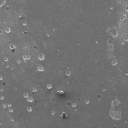corrosion: (108, 26, 120, 39), (37, 52, 46, 61), (110, 58, 119, 67), (37, 65, 45, 73), (4, 26, 12, 34), (56, 89, 65, 96), (26, 105, 33, 113), (8, 107, 15, 115), (9, 43, 16, 51), (60, 112, 68, 119), (22, 54, 31, 60), (46, 83, 53, 90), (120, 14, 125, 23), (22, 93, 29, 99), (71, 102, 77, 109), (65, 71, 72, 77), (50, 110, 56, 116), (85, 98, 90, 105), (2, 103, 7, 109), (4, 56, 9, 62), (22, 22, 27, 27), (46, 34, 50, 38)
